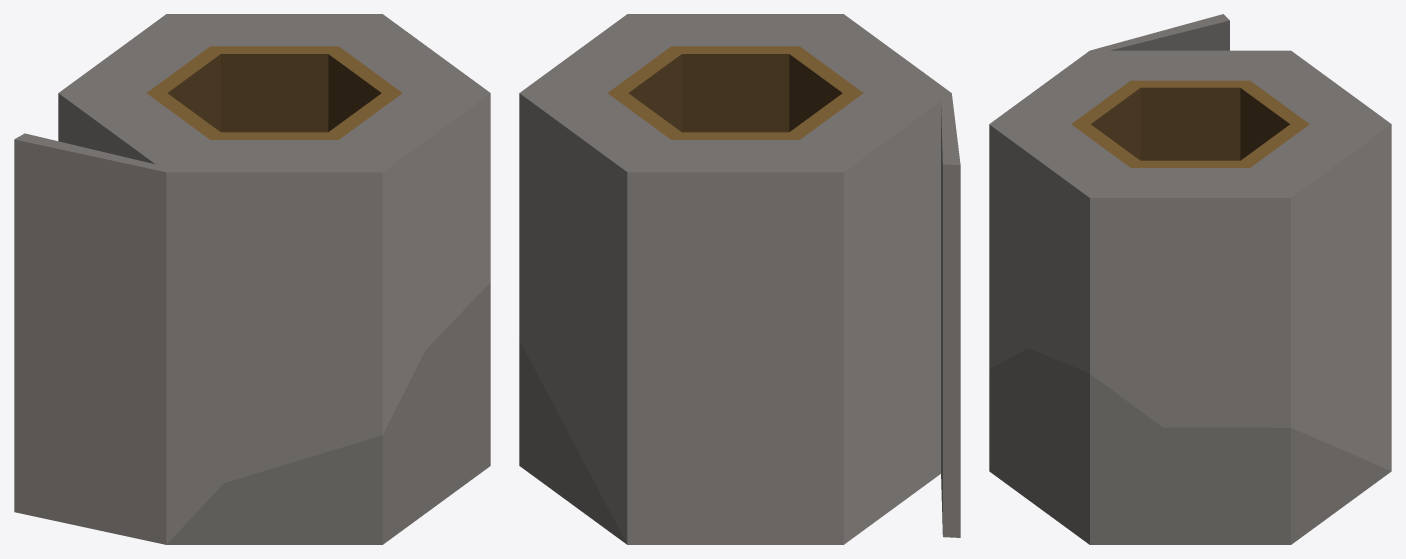
The model's file is AI_Item_ToiletPaper.fbx.
3 renders of one model, left to right at view 1: azimuth 30°, elevation 25°; view 2: azimuth 150°, elevation 25°; view 3: azimuth 270°, elevation 25°, orthographic. The views are drawn at different scales.
Visible parts, largest first — view 1: AI_Item_ToiletPaper; view 2: AI_Item_ToiletPaper; view 3: AI_Item_ToiletPaper.
Part boxes in pixels (x1,y1,x2,y2): AI_Item_ToiletPaper: (14, 14, 490, 544); AI_Item_ToiletPaper: (519, 14, 960, 544); AI_Item_ToiletPaper: (989, 14, 1391, 544).
Size of the model in its own units: 0.4267 by 0.3753 by 0.3947.
